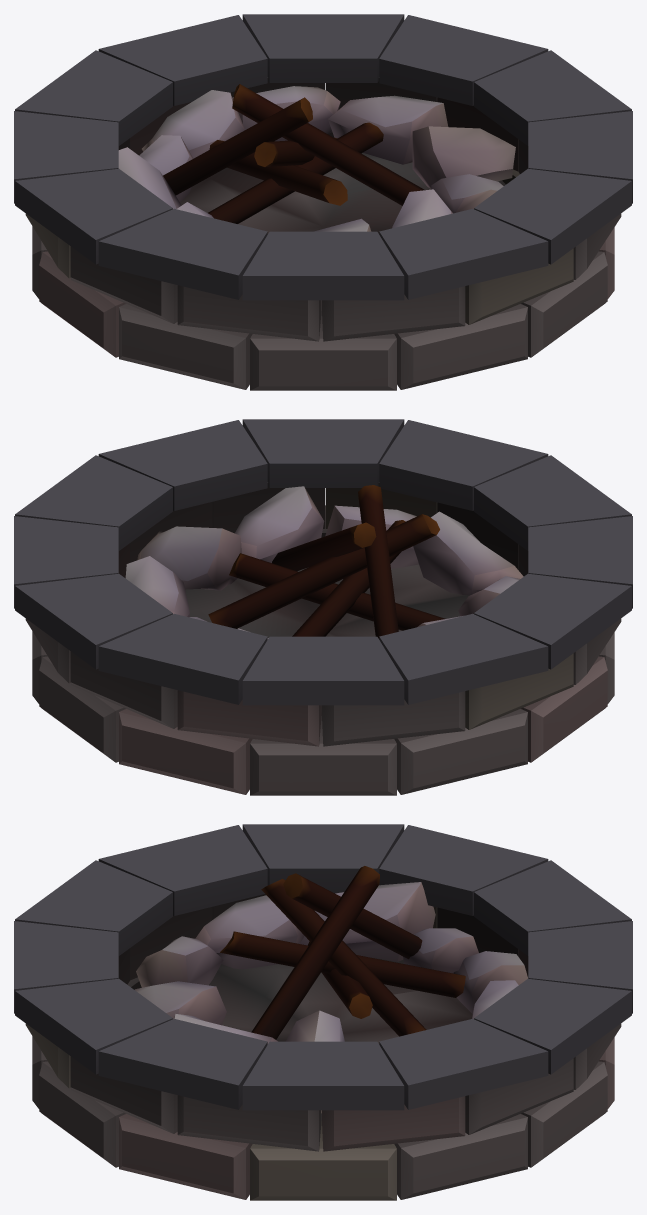
Rendered from Fireplace_Regular.fbx.
3 views of the same model, one above another, from view 1: azimuth 30°, elevation 25°; view 2: azimuth 150°, elevation 25°; view 3: azimuth 270°, elevation 25° (orthographic).
Visible parts, largest first — view 1: Fireplace_Regular; view 2: Fireplace_Regular; view 3: Fireplace_Regular.
Part boxes in pixels (bbox=[...]): Fireplace_Regular: bbox=[14, 14, 632, 390]; Fireplace_Regular: bbox=[14, 419, 632, 795]; Fireplace_Regular: bbox=[14, 824, 632, 1200].
Bounding box in the file's own units: 178 × 60.27 × 178.
